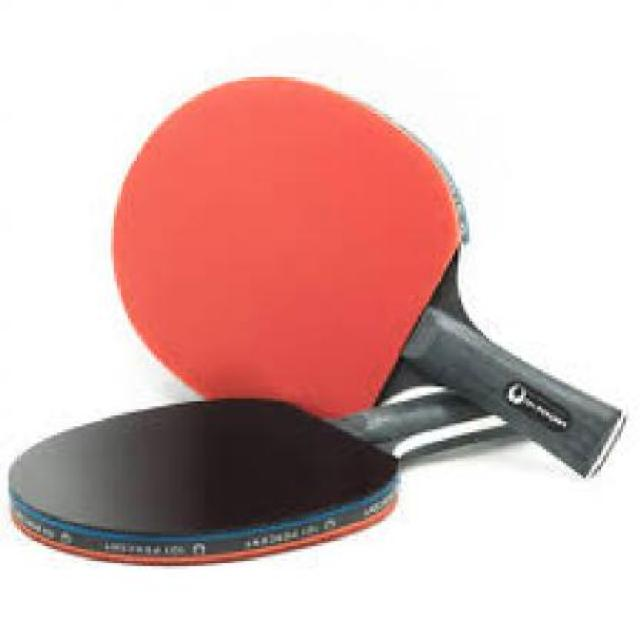table_tennis_racket: (103, 67, 482, 425), (11, 372, 414, 559)
